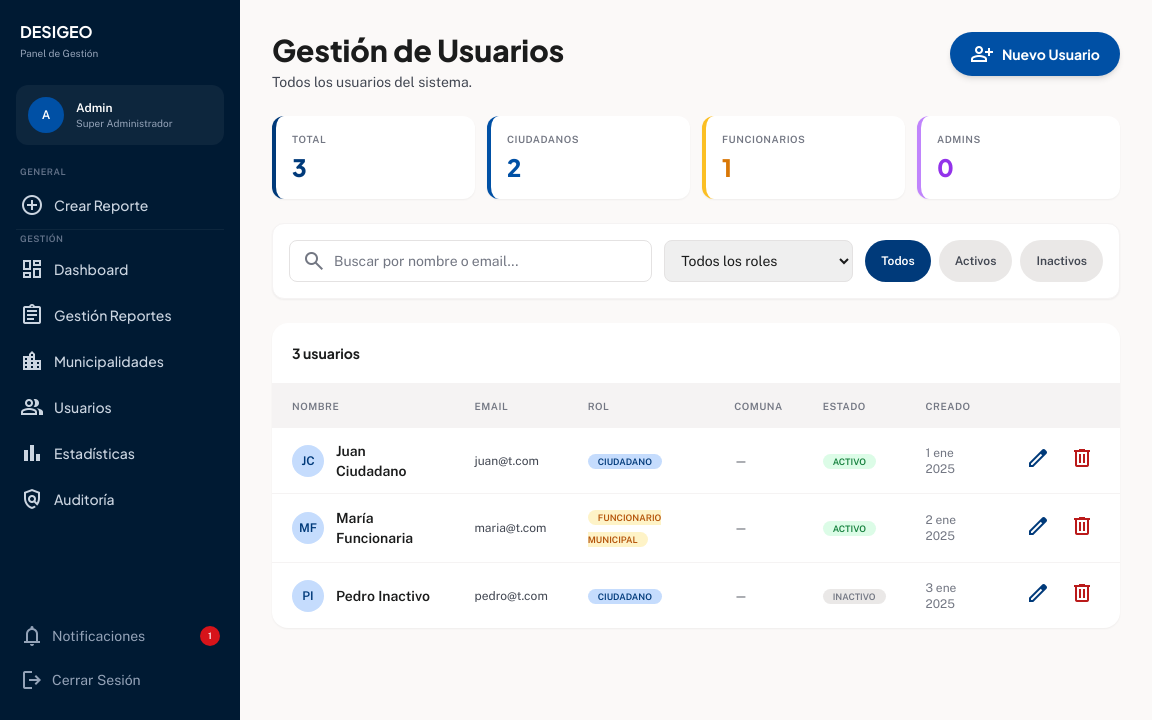
Scenario: CP-ADMIN — Gestión de Usuarios › CP-ADMIN-001: botón "Nuevo Usuario" abre modal de creación
Check: the text "Juan Ciudadano" is shown, box [336,442,406,478]
Click the button "Nuevo Usuario". click: {"x": 1035, "y": 54}
box: [950,32,1120,76]
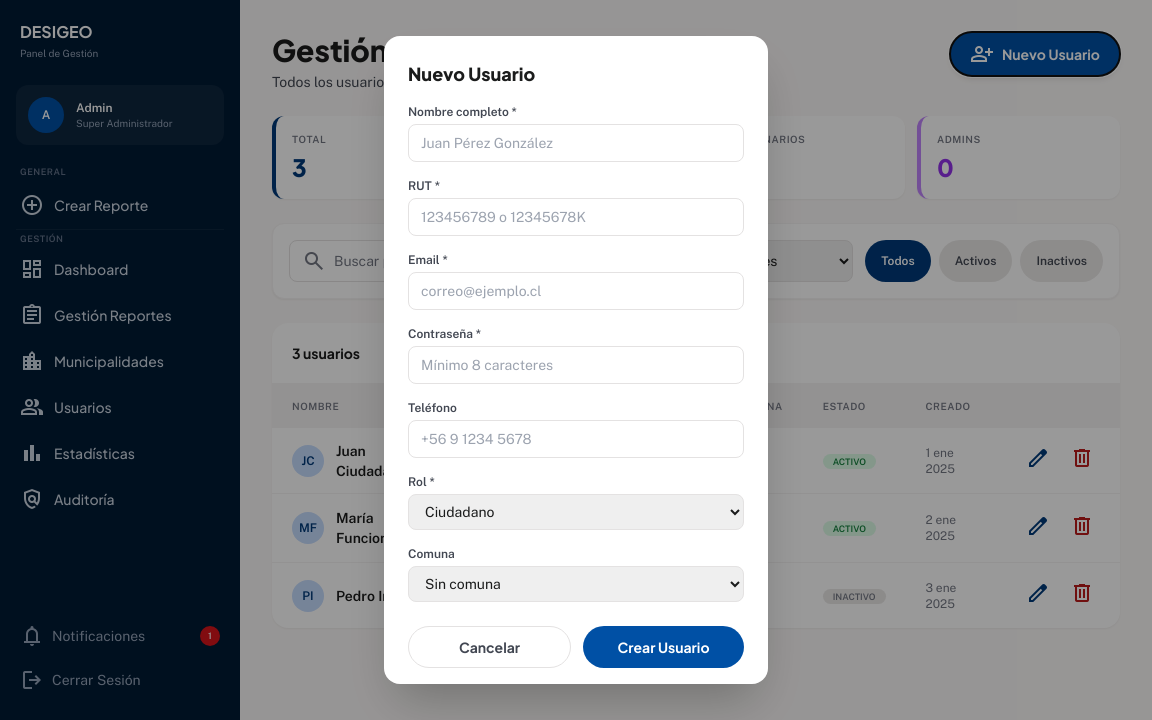
Check: the heading "Nuevo Usuario" is shown, box [408,62,535,85]
